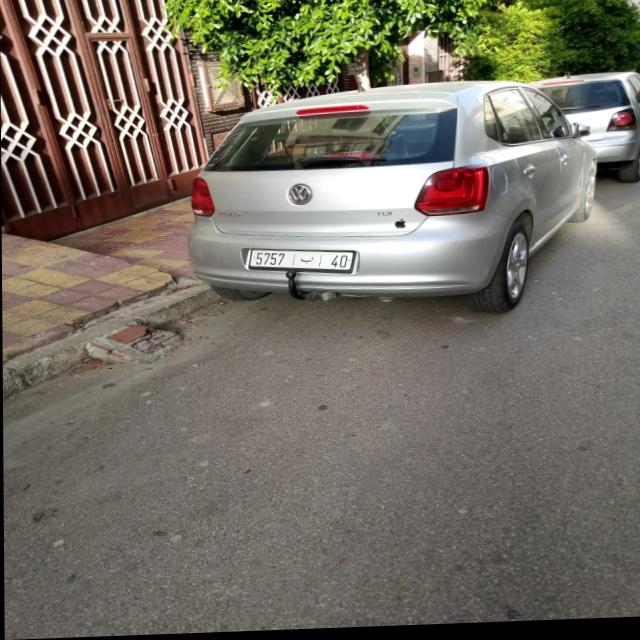License-Plate: (250, 252, 353, 273)
